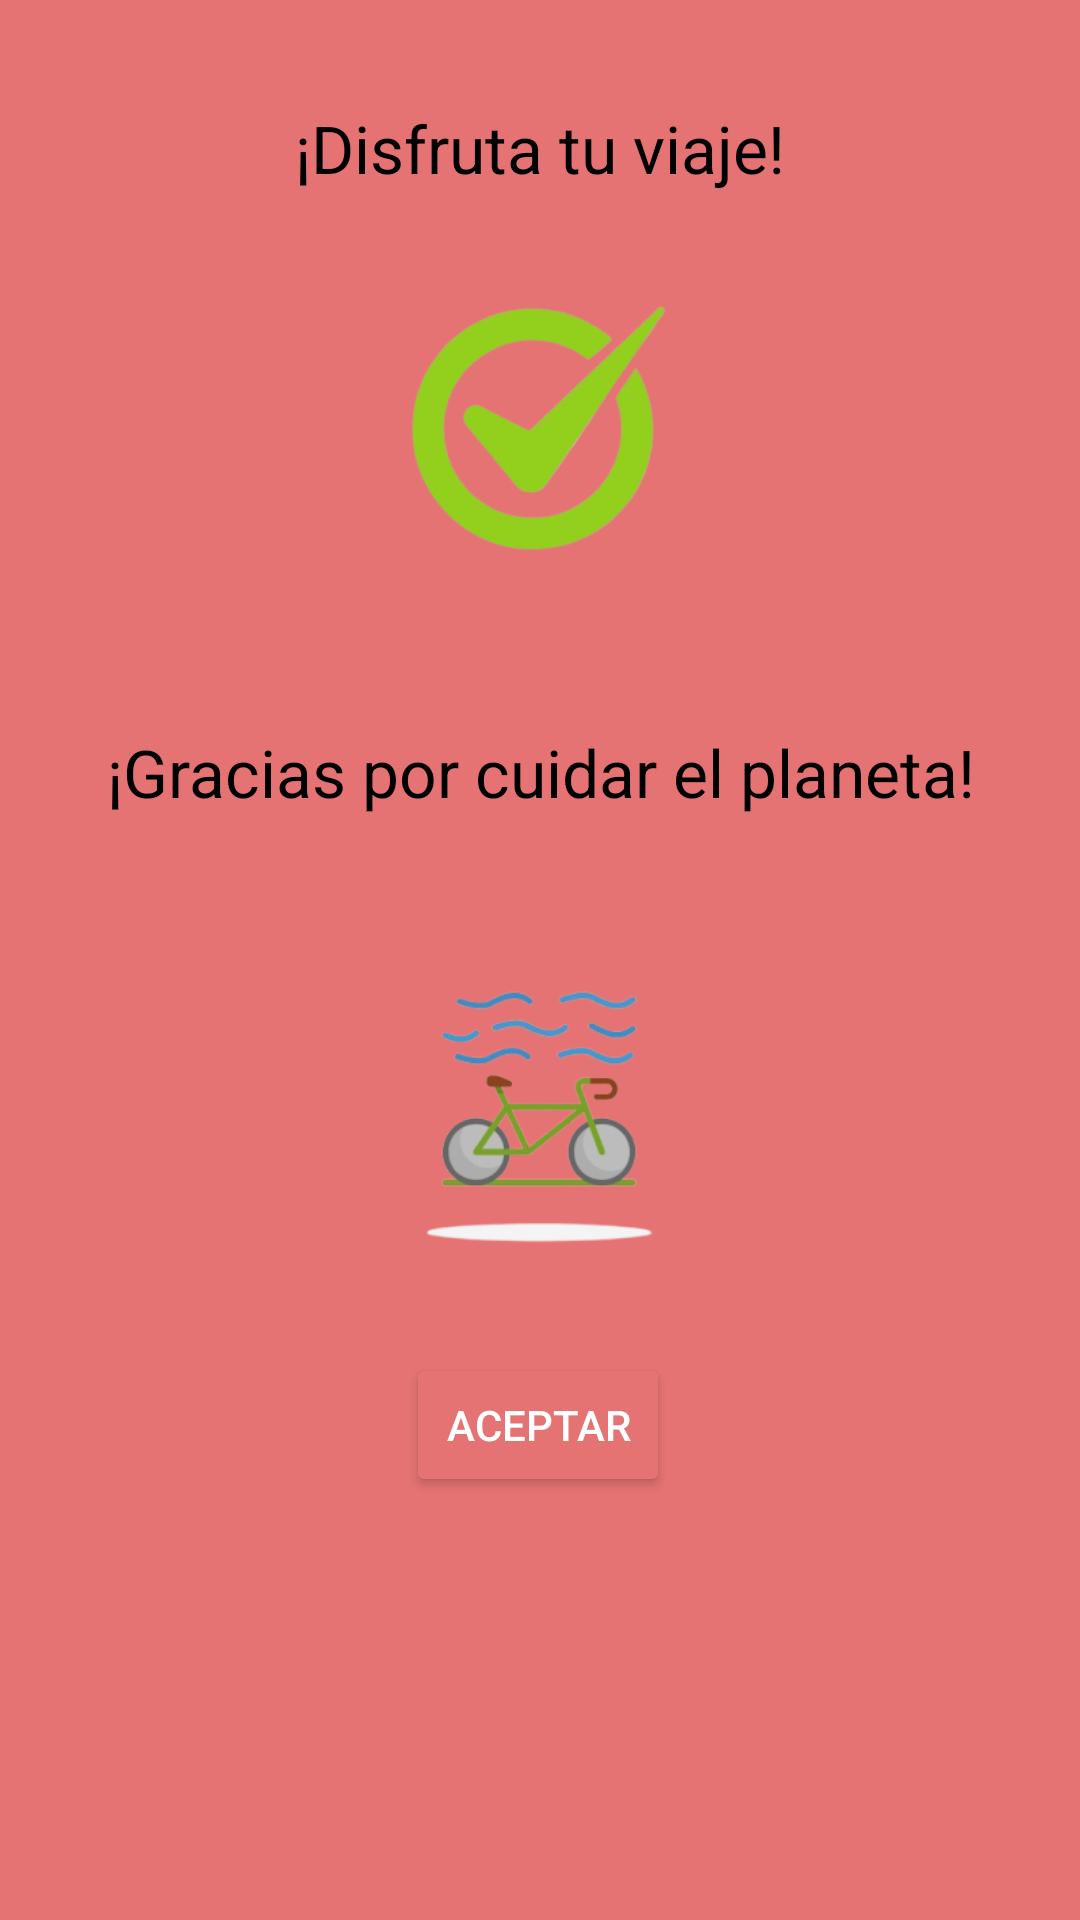

Point at icon controls on the screen. Image size 1080x1920, points as [x,y].
bici: [539,1117]
check: [538,428]
